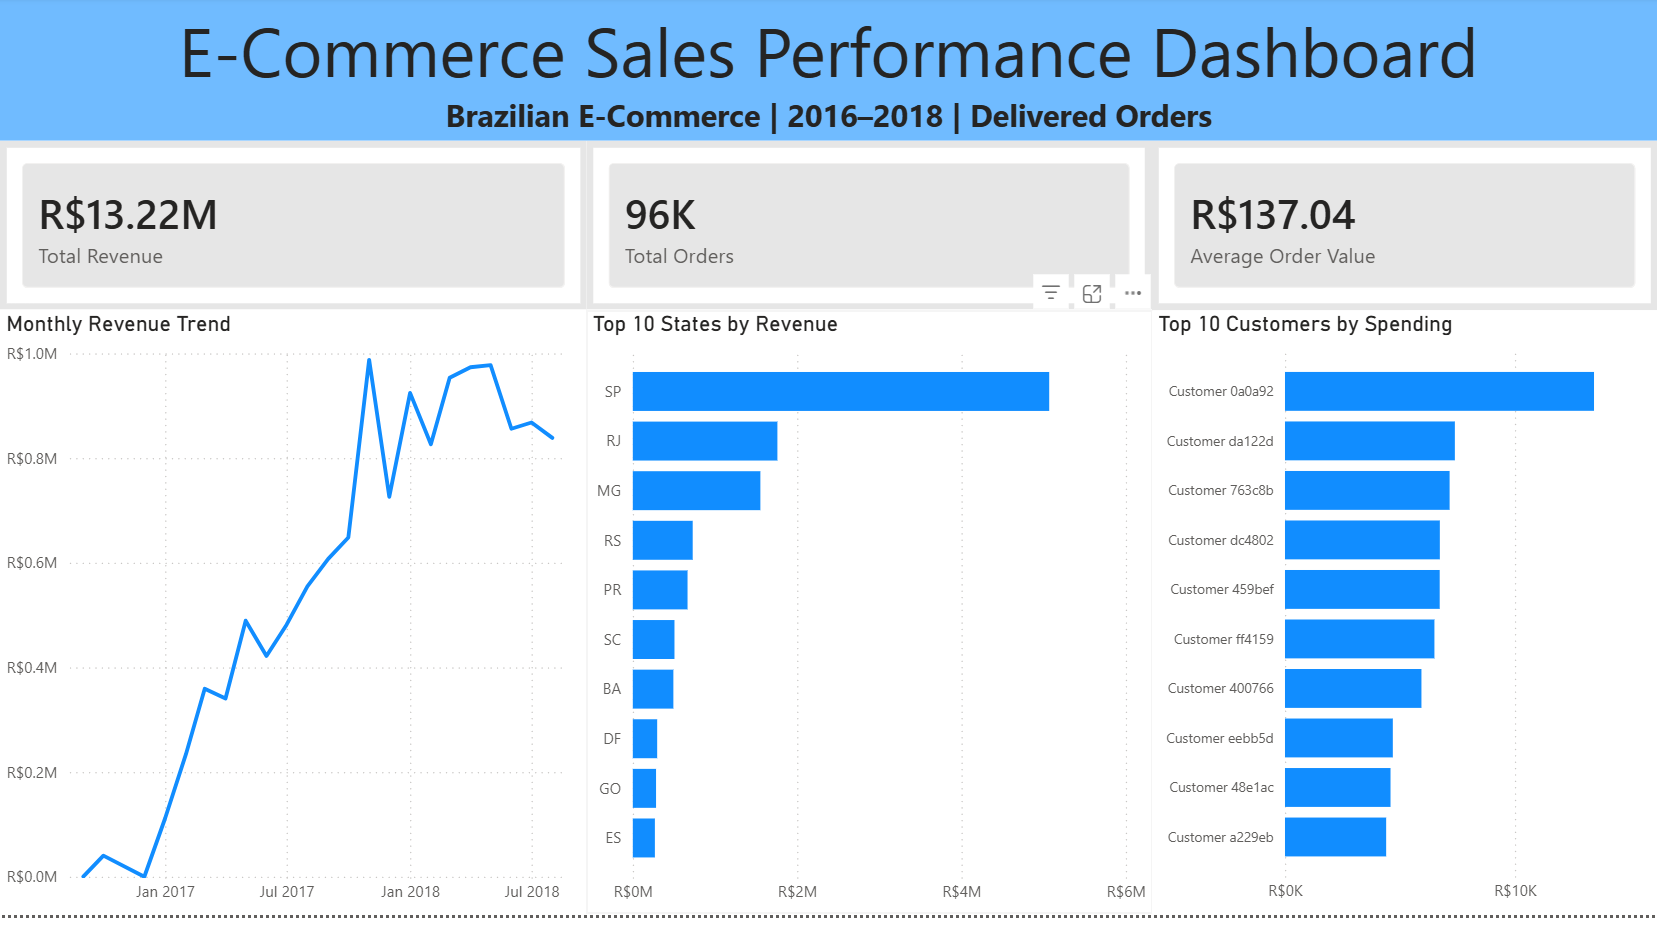

What the dashboard file says about the page in this screenshot:
{"tool":"powerbi","page":{"name":"Page 1","canvas":[1300,720],"ordinal":0},"visuals":[{"type":"cardVisual","fields":{"Data":["Sum(gold_sales_kpis.total_revenue)"]},"box":[0,113.6,460,132.1],"z":0},{"type":"cardVisual","fields":{"Data":["Sum(gold_sales_kpis.total_orders)"]},"box":[460,113.6,443.8,132.1],"z":1000},{"type":"cardVisual","fields":{"Data":["Sum(gold_sales_kpis.average_order_value)"]},"box":[903.8,113,396.6,133],"z":2000},{"type":"textbox","box":[0,0,1300.4,113],"z":3000},{"type":"lineChart","title":"Monthly Revenue Trend","fields":{"Y":["Sum(gold_monthly_revenue.monthly_revenue)"],"Category":["gold_monthly_revenue.sales_month"]},"box":[0,245.7,460,473.9],"z":4000},{"type":"clusteredBarChart","title":"Top 10 States by Revenue","fields":{"Category":["gold_state_revenue.customer_state"],"Y":["Sum(gold_state_revenue.state_revenue)"]},"box":[460,245.7,443.8,473.9],"z":5000},{"type":"clusteredBarChart","title":"Top 10 Customers by Spending","fields":{"Y":["Sum(gold_customer_spending.total_spent)"],"Category":["gold_customer_spending.customer_label"]},"box":[903.8,246,396.6,473.1],"z":6000}]}

Visuals, with their boxes in screenshot pixels (x1, y1, x2, y2), scaled from the page's 1300x720 canvas onto the 1657x928 screenshot:
cardVisual - Sum(gold_sales_kpis.total_revenue): bbox(0, 146, 586, 317)
cardVisual - Sum(gold_sales_kpis.total_orders): bbox(586, 146, 1152, 317)
cardVisual - Sum(gold_sales_kpis.average_order_value): bbox(1152, 146, 1656, 317)
textbox: bbox(0, 0, 1656, 146)
"Monthly Revenue Trend" lineChart: bbox(0, 317, 586, 927)
"Top 10 States by Revenue" clusteredBarChart: bbox(586, 317, 1152, 927)
"Top 10 Customers by Spending" clusteredBarChart: bbox(1152, 317, 1656, 927)
